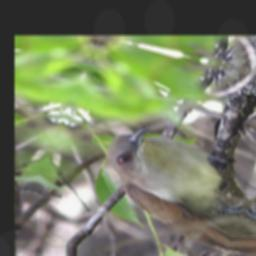Cuckoo: (78, 120, 256, 250)
